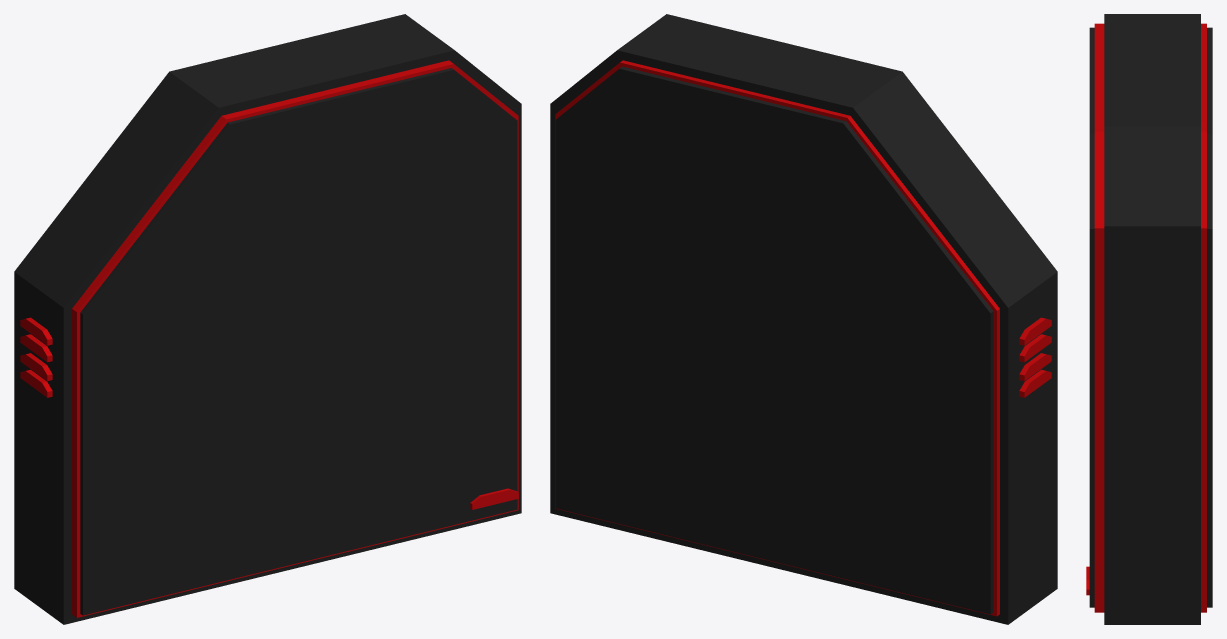
File: SciFiKeyCard.fbx
3 views of the same model, side by side, from view 1: azimuth 30°, elevation 25°; view 2: azimuth 150°, elevation 25°; view 3: azimuth 270°, elevation 25° (orthographic). The views are drawn at different scales.
Visible parts, largest first — view 1: Cube.010; view 2: Cube.010; view 3: Cube.010.
Part boxes in pixels (<box>): Cube.010: <box>14,14,521,624</box>; Cube.010: <box>550,14,1057,624</box>; Cube.010: <box>1086,14,1212,624</box>.
Bounding box in the file's own units: 202 × 200 × 49.16.
